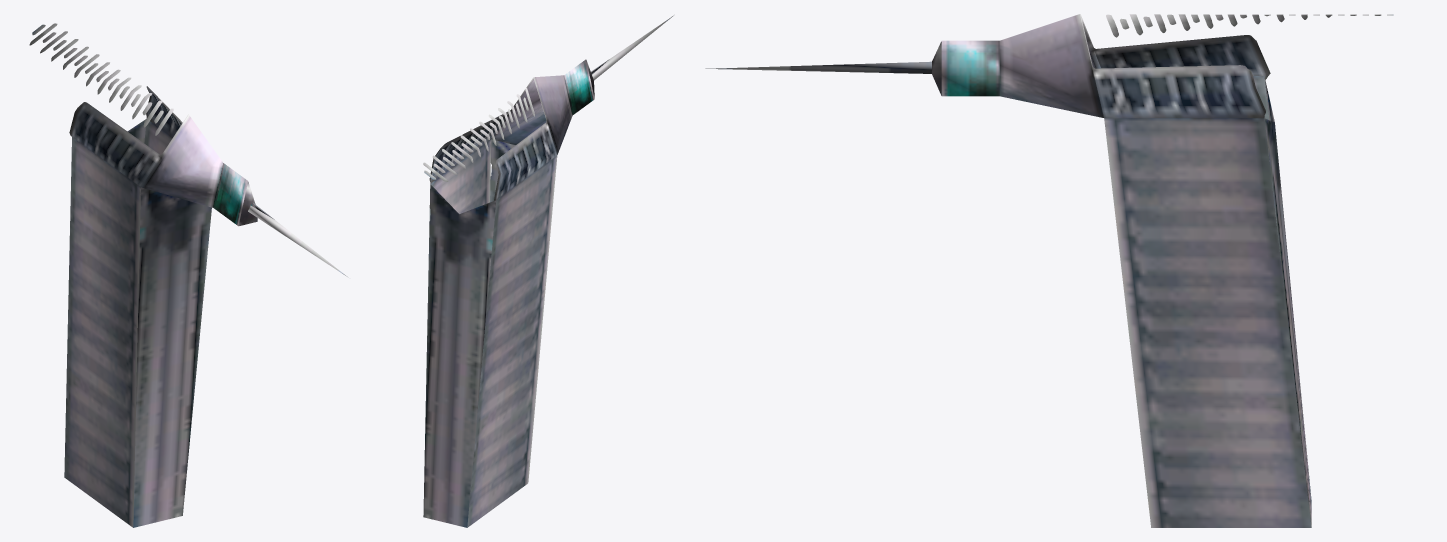
The model's file is eqp_medic_stimpack_sm_s1_l1.fbx.
3 renders of one model, left to right at view 1: azimuth 30°, elevation 25°; view 2: azimuth 150°, elevation 25°; view 3: azimuth 270°, elevation 25°, orthographic. The views are drawn at different scales.
Visible parts, largest first — view 1: mesh_node; view 2: mesh_node; view 3: mesh_node.
Boxes of the visible parts, x1=… form: mesh_node: x1=29, y1=23, x2=348, y2=527; mesh_node: x1=423, y1=15, x2=673, y2=527; mesh_node: x1=705, y1=14, x2=1393, y2=527.
Bounding box in the file's own units: 0.0441 × 0.243 × 0.3207.
